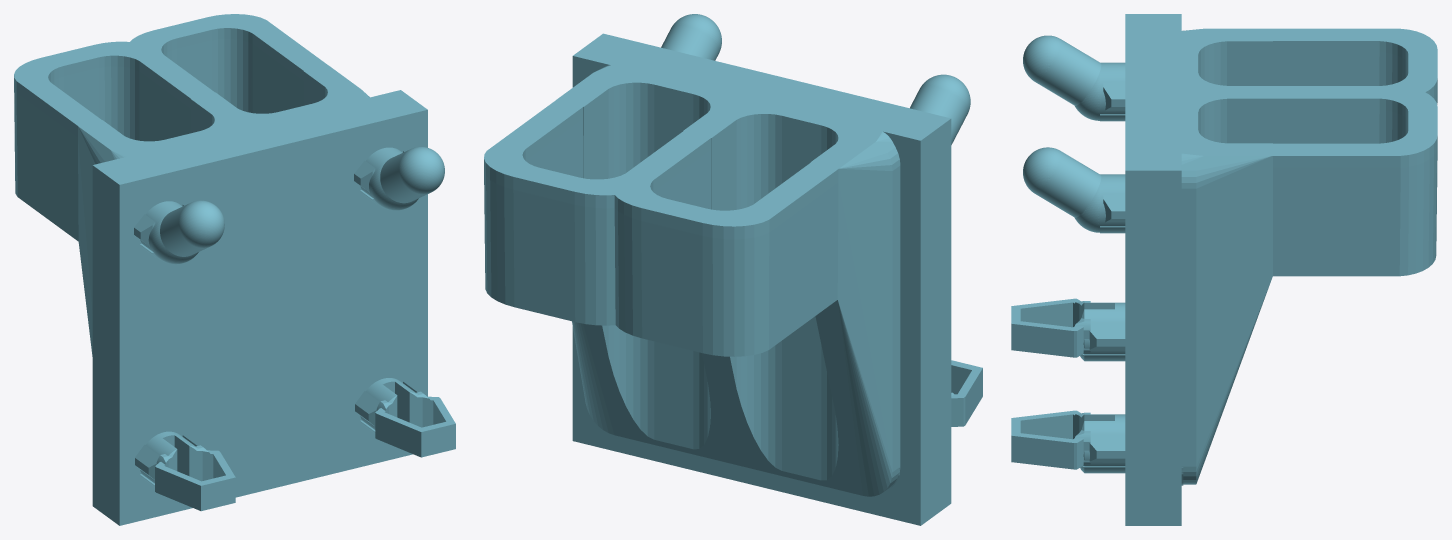
Rendered from part-p03__current-mounts-flat-top-v2__fit-pf02c9-hoop5__installed.glb.
The picture shows the model from 3 angles, left to right: view 1: azimuth 30°, elevation 25°; view 2: azimuth 150°, elevation 25°; view 3: azimuth 270°, elevation 25°; orthographic projection. The views are drawn at different scales.
Visible parts, largest first — view 1: installed.stl; view 2: installed.stl; view 3: installed.stl.
Boxes of the visible parts, box(x1,y1,x2,y2) form: installed.stl: box(14, 14, 455, 525); installed.stl: box(484, 14, 982, 525); installed.stl: box(1011, 14, 1437, 525).
Bounding box in the file's own units: 0.0356 × 0.0376 × 0.0409.
